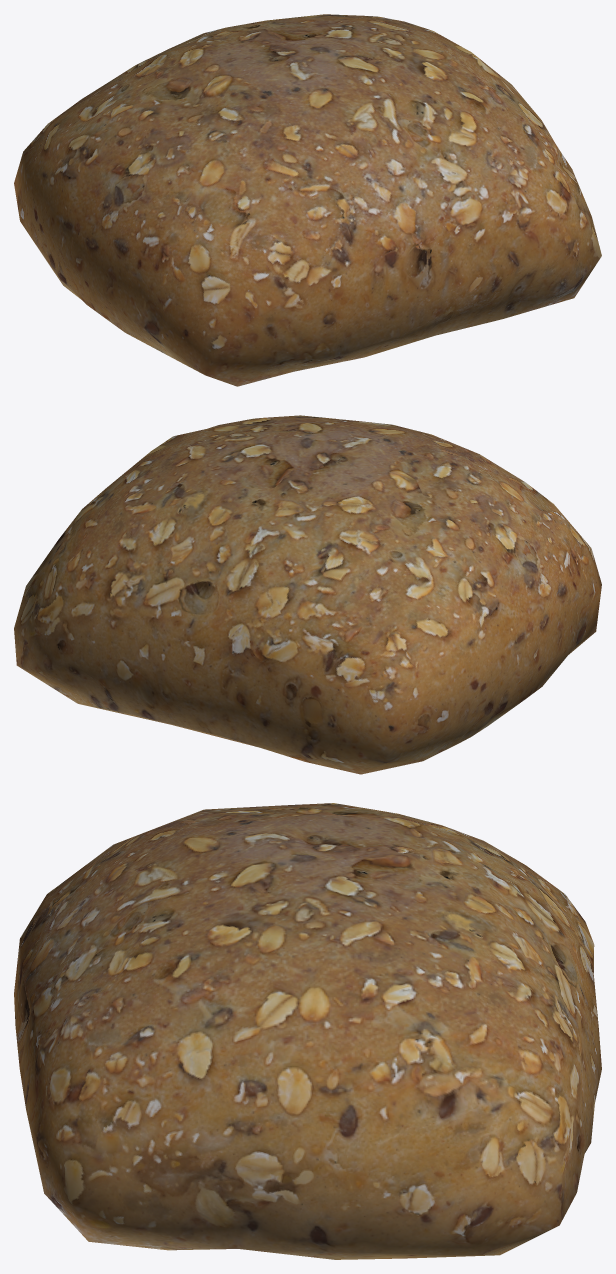
The model's file is 3DBread010_LQ-1K-JPG.obj.
The picture shows the model from 3 angles, top to bottom: view 1: azimuth 30°, elevation 25°; view 2: azimuth 150°, elevation 25°; view 3: azimuth 270°, elevation 25°; orthographic projection. The views are drawn at different scales.
Visible parts, largest first — view 1: 3DBread010_LQ-1K-JPG; view 2: 3DBread010_LQ-1K-JPG; view 3: 3DBread010_LQ-1K-JPG.
Part boxes in pixels (x1,y1,x2,y2): 3DBread010_LQ-1K-JPG: (14,14,601,386); 3DBread010_LQ-1K-JPG: (14,415,601,774); 3DBread010_LQ-1K-JPG: (14,803,601,1259).
Bounding box in the file's own units: 0.0718 × 0.0354 × 0.0627.
1 material, 1 textured.
